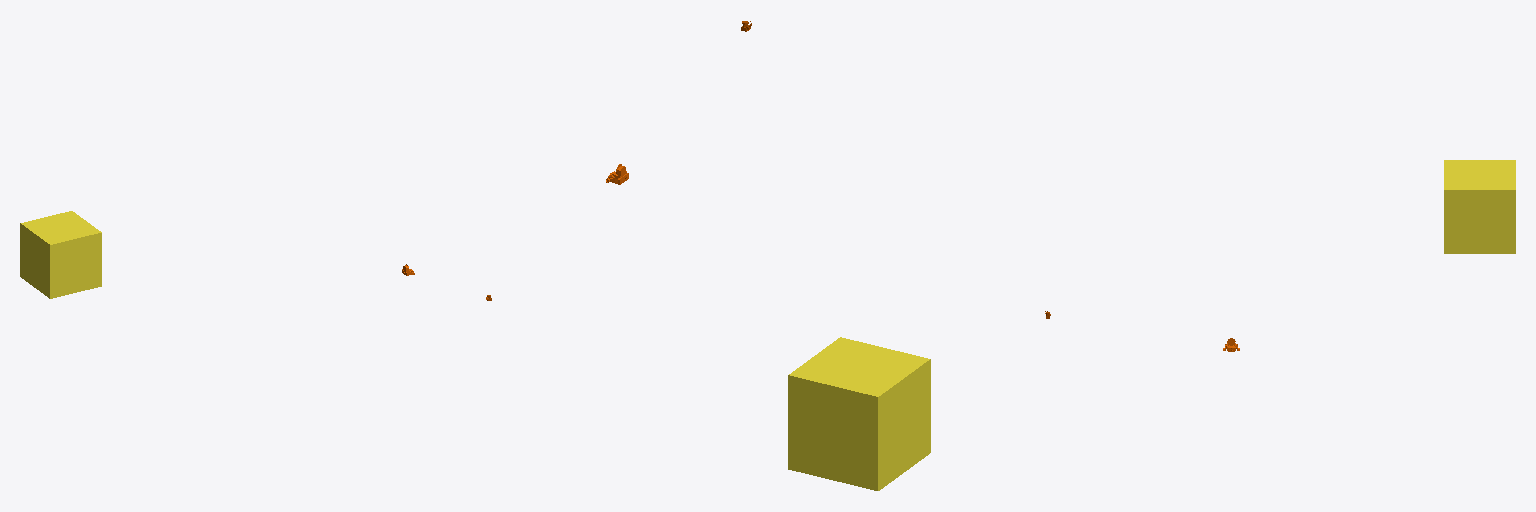
The robot description file, URDF, robot "multisense_sl":
<robot name="multisense_sl">
<!-- from atlas_v4
    <link name="head">
        <inertial>
            <mass value="3.751" />
            <origin xyz="-0.0481 0 0.0457" rpy="0 -0 0" />
            <inertia ixx="0.0108" ixy="-0.0001" ixz="-0.0007" iyy="0.0182" iyz="-0.0003" izz="0.0108" />
        </inertial>
        <visual>
            <origin xyz="0 0 0" rpy="0 -0 0" />
            <geometry>
                <mesh filename="package://atlas/meshes_v3/head.DAE" scale="1 1 1" />
            </geometry>
        </visual>
        <collision>
            <origin xyz="0 0 0" rpy="0 -0 0" />
            <geometry>
                <mesh filename="package://atlas/meshes_v3/head.DAE" scale="1 1 1" />
            </geometry>
        </collision>
    </link>
-->
  <!-- Head Link Simple Collision Meshes -->
  <link name="head">
    <inertial>
      <origin xyz="-0.075493 3.3383E-05 0.02774" rpy="0 0 0" />
      <mass value="1.41984" />
      <inertia iyy="0.0041178" ixy="-1.5797E-06" iyz="-6.8415E-07" ixx="0.0039688" ixz="-0.00089293" izz="0.0035243" />
    </inertial>
    <visual>
      <origin xyz="0 0 0" rpy="0 0 0" />
      <geometry>
        <mesh filename="package://multisense_sl_description/meshes/head.dae" />
      </geometry>
      <material name="">
        <color rgba="0.9098 0.44314 0.031373 1" />
      </material>
    </visual>
  <collision group="default">
    <origin xyz="-0.0503 0 -0.00195" rpy="0 0 0" />
    <geometry>
      <box size="0.1311 0.12 0.0591"/>
    </geometry>
  </collision>
  <collision group="other">
    <origin xyz="-0.093 0 0.0868" rpy="0 0 0" />
    <geometry>
      <box size="0.0468 0.12 0.1184"/>
    </geometry>
  </collision>
  </link>
  <link name="hokuyo_link">
    <inertial>
      <origin xyz="0.032428 0.0004084 -0.0041835" rpy="0 0 0" />
      <mass value="0.057654" />
      <inertia iyy="4.2412E-05" ixy="4.9927E-08" iyz="-9.8165E-09" ixx="3.7174E-05" ixz="1.1015E-05" izz="4.167E-05" />
    </inertial>
    <visual>
      <!--origin xyz="0.065774 -0.001163 -0.08809" rpy="0 0 0" /-->
      <!--origin xyz="0.045 -0.001163 -0.08809" rpy="-0.314 0 0" /-->
      <origin xyz="0.045 -0.0261018277 -0.08342369" rpy="-0.314 0 0" />
      <geometry>
        <mesh filename="package://multisense_sl_description/meshes/head_camera.dae" />
      </geometry>
      <material name="">
        <color rgba="0.72941 0.35686 0.023529 1" />
      </material>
    </visual>
  <collision group="default">
    <origin xyz="0.01885 0 -0.02119" rpy="0 0 0" />
    <geometry>
      <box size="0.08 0.06 0.04238"/>
    </geometry>
  </collision>
  <collision group="other">
    <origin xyz="0.03 0 0.0235" rpy="0 0 0" />
    <geometry>
      <cylinder radius="0.024425" length="0.047"/>
    </geometry>
  </collision>
  </link>
  <gazebo reference="head">
    <mu1>0.9</mu1>
    <mu2>0.9</mu2>
  </gazebo>
  <gazebo reference="hokuyo_link">
    <mu1>0.9</mu1>
    <mu2>0.9</mu2>
  </gazebo>

  <!-- Head Link Complex Collision Meshes
  <link name="head">
    <inertial>
      <origin xyz="-0.075493 3.3383E-05 0.02774" rpy="0 0 0" />
      <mass value="1.4199" />
      <inertia iyy="0.0041178" ixy="-1.5797E-06" iyz="-6.8415E-07" ixx="0.0039688" ixz="-0.00089293" izz="0.0035243" />
    </inertial>
    <visual>
      <origin xyz="-0.0446 0 0.0880" rpy="0 0 1.570795" />
      <geometry>
        <mesh filename="package://multisense_sl_description/meshes/base_link.STL" />
      </geometry>
      <material name="">
        <color rgba="0.9098 0.44314 0.031373 1" />
      </material>
    </visual>
    <collision group="default">
      <origin xyz="-0.0446 0 0.0880" rpy="0 0 1.570795" />
      <geometry>
        <mesh filename="package://multisense_sl_description/meshes/base_link.STL" />
      </geometry>
    </collision>
  </link>
  <link name="hokuyo_link">
    <inertial>
      <origin xyz="0.012428 0.0004084 -0.0041835" rpy="0 0 0" />
      <mass value="0.057664" />
      <inertia iyy="4.2412E-05" ixy="4.9927E-08" iyz="-9.8165E-09" ixx="3.7174E-05" ixz="1.1015E-05" izz="4.167E-05" />
    </inertial>
    <visual>
      <origin xyz="0 0 0" rpy="1.5707963267949 0 1.5707963267949" />
      <geometry>
        <mesh filename="package://multisense_sl_description/meshes/hokuyo_link.STL" />
      </geometry>
      <material name="">
        <color rgba="0.72941 0.35686 0.023529 1" />
      </material>
    </visual>
    <collision group="default">
      <origin xyz="0 0 0" rpy="1.5707963267949 0 1.5707963267949" />
      <geometry>
        <mesh filename="package://multisense_sl_description/meshes/hokuyo_link.STL" />
      </geometry>
    </collision>
  </link>
  -->

  <joint name="hokuyo_joint" type="continuous">
    <origin xyz="-0.0446 0 0.0880" rpy="0 0 0" />
    <parent link="head" />
    <child link="hokuyo_link" />
    <axis xyz="1 0 0" />
    <dynamics damping="0.01" friction="0"/>
  </joint>
  <gazebo reference="hokuyo_joint">
    <implicitSpringDamper>1</implicitSpringDamper>
  </gazebo>

  <!-- Hokuyo Laser -->
  <joint name="head_hokuyo_joint" type="fixed">
    <axis xyz="0 1 0" />
    <origin xyz="0.03 0 0.015" rpy="0 0 0"/>
    <parent link="hokuyo_link"/>
    <child link="head_hokuyo_frame"/>
  </joint>
  <link name="head_hokuyo_frame">
    <inertial>
      <mass value="1e-5" />
      <!-- collocate with parent link and remove mass from it -->
      <origin xyz="0.042428 0.0004084 0.0108165" rpy="0 0 0"/>
      <inertia ixx="1e-6" ixy="0" ixz="0" iyy="1e-6" iyz="0" izz="1e-6" />
    </inertial>
  </link>
  <gazebo reference="head_hokuyo_frame">
    <sensor type="gpu_ray" name="head_hokuyo_sensor">
      <pose>0 0 0 0 0 0</pose>
      <visualize>false</visualize>
      <update_rate>40</update_rate>
      <ray>
        <scan>
          <horizontal>
            <samples>720</samples>
            <resolution>1</resolution>
            <min_angle>-1.570796</min_angle>
            <max_angle>1.570796</max_angle>
          </horizontal>
        </scan>
        <range>
          <min>0.10</min>
          <max>30.0</max>
          <resolution>0.01</resolution>
        </range>
        <noise>
          <type>gaussian</type>
          <!-- Noise parameters based on published spec for Hokuyo laser
               achieving "+-30mm" accuracy at range < 10m.  A mean of 0.0m and
               stddev of 0.01m will put 99.7% of samples within 0.03m of the true
               reading. -->
          <mean>0.0</mean>
          <stddev>0.01</stddev>
        </noise>
      </ray>
      <plugin name="gazebo_ros_head_hokuyo_controller" filename="libgazebo_ros_gpu_laser.so">
        <topicName>/multisense/lidar_scan</topicName>
        <frameName>head_hokuyo_frame</frameName>
      </plugin>
    </sensor>
  </gazebo>
  <!-- Stereo Camera -->
  <joint name="left_camera_frame_joint" type="fixed">
    <!-- optical frame collocated with tilting DOF -->
    <origin xyz="0.0 0.035 -0.002"/>
    <parent link="head"/>
    <child link="left_camera_frame"/>
  </joint>
  <link name="left_camera_frame">
    <inertial>
      <mass value="1e-5" />
      <!-- collocate with parent link and remove mass from it -->
      <origin xyz="-0.075493 0.035033383 0.02574"/>
      <inertia ixx="1e-6" ixy="0" ixz="0" iyy="1e-6" iyz="0" izz="1e-6" />
    </inertial>
  </link>
  <joint name="left_camera_optical_frame_joint" type="fixed">
    <origin xyz="0 0 0" rpy="-1.5708 0.0 -1.5708" />
    <parent link="left_camera_frame" />
    <child link="left_camera_optical_frame"/>
  </joint>
  <link name="left_camera_optical_frame"/>
  <gazebo reference="left_camera_frame">
    <sensor type="multicamera" name="stereo_camera">
      <!-- see MultiSenseSLPlugin.h for available modes -->
      <update_rate>30.0</update_rate>
      <camera name="left">
        <!-- Spec sheet says 80deg X 45deg @ 1024x544pix.  Based on feedback
             from teams, we're instead doing 80deg X 80deg @ 800x800pix. -->
        <horizontal_fov>1.3962634</horizontal_fov>
        <image>
          <width>800</width>
          <height>800</height>
          <format>R8G8B8</format>
        </image>
        <clip>
          <near>0.02</near>
          <far>300</far>
        </clip>
        <noise>
          <type>gaussian</type>
          <!-- Noise is sampled independently per pixel on each frame.  
               That pixel's noise value is added to each of its color
               channels, which at that point lie in the range [0,1].
               The stddev value of 0.007 is based on experimental data 
               from a camera in a Sandia hand pointed at a static scene
               in a couple of different lighting conditions.  -->
          <mean>0.0</mean>
          <stddev>0.007</stddev>
        </noise>
      </camera>
      <camera name="right">
        <pose>0 -0.07 0 0 0 0</pose>
        <!-- Spec sheet says 80deg X 45deg @ 1024x544pix.  Based on feedback
             from teams, we're instead doing 80deg X 80deg @ 800x800pix. -->
        <horizontal_fov>1.3962634</horizontal_fov>
        <image>
          <width>800</width>
          <height>800</height>
          <format>R8G8B8</format>
        </image>
        <clip>
          <near>0.02</near>
          <far>300</far>
        </clip>
        <noise>
          <type>gaussian</type>
          <!-- Noise is sampled independently per pixel on each frame.  
               That pixel's noise value is added to each of its color
               channels, which at that point lie in the range [0,1].
               The stddev value of 0.007 is based on experimental data 
               from a camera in a Sandia hand pointed at a static scene
               in a couple of different lighting conditions.  -->
          <mean>0.0</mean>
          <stddev>0.007</stddev>
        </noise>
      </camera>
      <plugin name="stereo_camera_controller" filename="libgazebo_ros_multicamera.so">
        <alwaysOn>true</alwaysOn>
        <updateRate>0.0</updateRate>
        <cameraName>multisense/camera</cameraName>
        <imageTopicName>image_raw</imageTopicName>
        <cameraInfoTopicName>camera_info</cameraInfoTopicName>
        <frameName>left_camera_optical_frame</frameName>
        <!--<rightFrameName>right_camera_optical_frame</rightFrameName>-->
        <hackBaseline>0.07</hackBaseline>
        <distortionK1>0.0</distortionK1>
        <distortionK2>0.0</distortionK2>
        <distortionK3>0.0</distortionK3>
        <distortionT1>0.0</distortionT1>
        <distortionT2>0.0</distortionT2>
      </plugin>
    </sensor>
  </gazebo>


  <joint name="right_camera_frame_joint" type="fixed">
    <origin xyz="0.0 -0.035 -0.002"/>
    <parent link="head"/>
    <child link="right_camera_frame"/>
  </joint>
  <link name="right_camera_frame">
    <inertial>
      <mass value="1e-5" />
      <!-- collocate with parent link and remove mass from it -->
      <origin xyz="-0.075493 -0.034966617 0.02574"/>
      <inertia ixx="1e-6" ixy="0" ixz="0" iyy="1e-6" iyz="0" izz="1e-6" />
    </inertial>
  </link>
  <joint name="right_camera_optical_frame_joint" type="fixed">
    <origin xyz="0 0 0" rpy="-1.5708 0.0 -1.5708" />
    <parent link="right_camera_frame" />
    <child link="right_camera_optical_frame"/>
  </joint>
  <link name="right_camera_optical_frame"/>

  <joint name="center_top_led_frame_joint" type="fixed">
    <origin xyz="0.01125 0.0 0.0105"/>
    <parent link="head"/>
    <child link="center_top_led_frame"/>
  </joint>
  <link name="center_top_led_frame">
    <inertial>
      <mass value="1e-5" />
      <!-- collocate with parent link and remove mass from it -->
      <origin xyz="-0.064243 0.000033383 0.03824" rpy="0 0 0" />
      <inertia ixx="1e-6" ixy="0" ixz="0" iyy="1e-6" iyz="0" izz="1e-6" />
    </inertial>
  </link>
  <joint name="center_bottom_led_frame_joint" type="fixed">
    <origin xyz="0.01125 0.0 -0.0155"/>
    <parent link="head"/>
    <child link="center_bottom_led_frame"/>
  </joint>
  <link name="center_bottom_led_frame">
    <inertial>
      <mass value="1e-5" />
      <!-- collocate with parent link and remove mass from it -->
      <origin xyz="-0.064243 0.000033383 0.01224" rpy="0 0 0" />
      <inertia ixx="1e-6" ixy="0" ixz="0" iyy="1e-6" iyz="0" izz="1e-6" />
    </inertial>
  </link>
  <joint name="left_led_frame_joint" type="fixed">
    <origin xyz="-0.01443 0.07452 0.050346" rpy="0 -0.15 0.53"/>
    <parent link="head"/>
    <child link="left_led_frame"/>
  </joint>
  <link name="left_led_frame">
    <inertial>
      <mass value="1e-5" />
      <!-- collocate with parent link and remove mass from it -->
      <origin xyz="-0.089923 0.074553383 0.078086" rpy="0 -0.15 0.53" />
      <inertia ixx="1e-6" ixy="0" ixz="0" iyy="1e-6" iyz="0" izz="1e-6" />
    </inertial>
  </link>
  <joint name="right_led_frame_joint" type="fixed">
    <origin xyz="-0.01443 -0.07452 0.050346" rpy="0 -0.15 -0.53"/>
    <parent link="head"/>
    <child link="right_led_frame"/>
  </joint>
  <link name="right_led_frame">
    <inertial>
      <mass value="1e-5" />
      <!-- collocate with parent link and remove mass from it -->
      <origin xyz="-0.089923 -0.074486617 0.07908" rpy="0 -0.15 -0.53" />
      <inertia ixx="1e-6" ixy="0" ixz="0" iyy="1e-6" iyz="0" izz="1e-6" />
    </inertial>
  </link>

  <gazebo>
    <plugin filename="libMultiSenseSLPlugin.so" name="multisense_plugin"/>
  </gazebo>

  <!-- imu link -->
  <link name="head_imu_link">
    <inertial>
      <mass value="1e-5" />
      <!-- collocate with parent link and remove mass from it -->
      <origin xyz="-0.122993 0.035033383 0.02774" rpy="0 0 0" />
      <inertia ixx="1e-6" ixy="0" ixz="0" iyy="1e-6" iyz="0" izz="1e-6" />
    </inertial>
    <visual>
      <origin rpy="0 0 0" xyz="0 0 0"/>
      <geometry>
        <box size="0.01 0.01 0.01"/>
      </geometry>
    </visual>
  </link>
  <joint name="head_imu_joint" type="fixed">
    <parent link="head"/>
    <child link="head_imu_link"/>
    <!-- putting it at the same z-level as the stereo -->
    <origin xyz="-0.0475 0.035 0.0" rpy="0 0 0"/>
  </joint>
  <gazebo reference="head_imu_link">
    <!-- this is expected to be reparented to head with appropriate offset
         when head_imu_link is reduced by fixed joint reduction -->
    <!-- todo: this is working with gazebo 1.4, need to write a unit test -->
    <sensor name="head_imu_sensor" type="imu">
      <always_on>1</always_on>
      <update_rate>1000.0</update_rate>
      <imu>
        <noise>
          <type>gaussian</type>
          <!-- Noise parameters from Boston Dynamics
               (http://gazebosim.org/wiki/Sensor_noise):
                 rates (rad/s): mean=0, stddev=2e-4
                 accels (m/s/s): mean=0, stddev=1.7e-2
                 rate bias (rad/s): 5e-6 - 1e-5
                 accel bias (m/s/s): 1e-1
               Experimentally, simulation provide rates with noise of
               about 1e-3 rad/s and accels with noise of about 1e-1 m/s/s.
               So we don't expect to see the noise unless number of inner iterations
               are increased.

               We will add bias.  In this model, bias is sampled once for rates
               and once for accels at startup; the sign (negative or positive)
               of each bias is then switched with equal probability.  Thereafter,
               the biases are fixed additive offsets.  We choose
               bias means and stddevs to produce biases close to the provided
               data. -->
          <rate>
            <mean>0.0</mean>
            <stddev>2e-4</stddev>
            <bias_mean>0.0000075</bias_mean>
            <bias_stddev>0.0000008</bias_stddev>
          </rate>
          <accel>
            <mean>0.0</mean>
            <stddev>1.7e-2</stddev>
            <bias_mean>0.1</bias_mean>
            <bias_stddev>0.001</bias_stddev>
          </accel>
        </noise>
      </imu>
    </sensor>
  </gazebo>
</robot>

--- Facts derived from the render (not from the file) ---
The picture shows the robot from 3 angles, left to right: view 1: azimuth 30°, elevation 25°; view 2: azimuth 150°, elevation 25°; view 3: azimuth 270°, elevation 25°; orthographic projection.
Model multisense_sl with 12 links and 11 joints (1 continuous, 10 fixed), rooted at head, posed all joints at 0.
Links seen in each view (by area): view 1: head_imu_link; view 2: head_imu_link; view 3: head_imu_link.
Link boxes in pixels (box(x1,y1,x2,y2)): head_imu_link: box(20, 211, 101, 298); head_imu_link: box(788, 337, 930, 490); head_imu_link: box(1444, 160, 1515, 253).
Bounding box of the posed robot: 0.0531 × 0.0663 × 0.0109 m (x, y, z).
Meshes: 2 distinct files referenced, 2 mesh visuals loaded (2 Collada DAE).